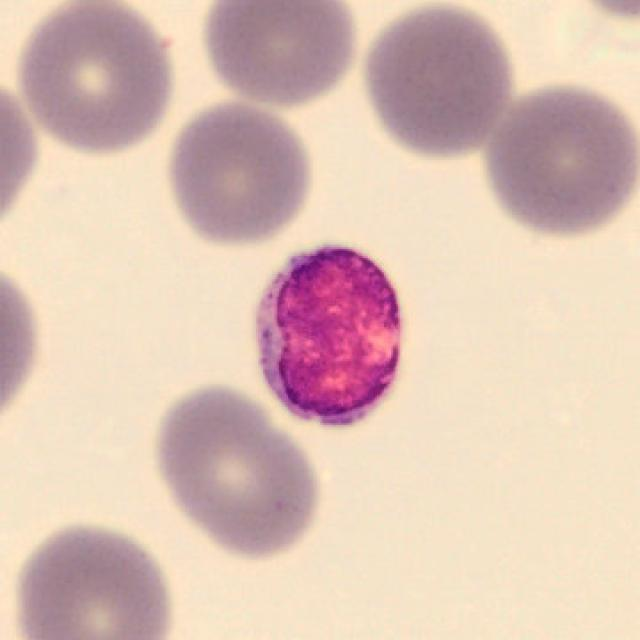Linfocito: (256, 247, 404, 427)
